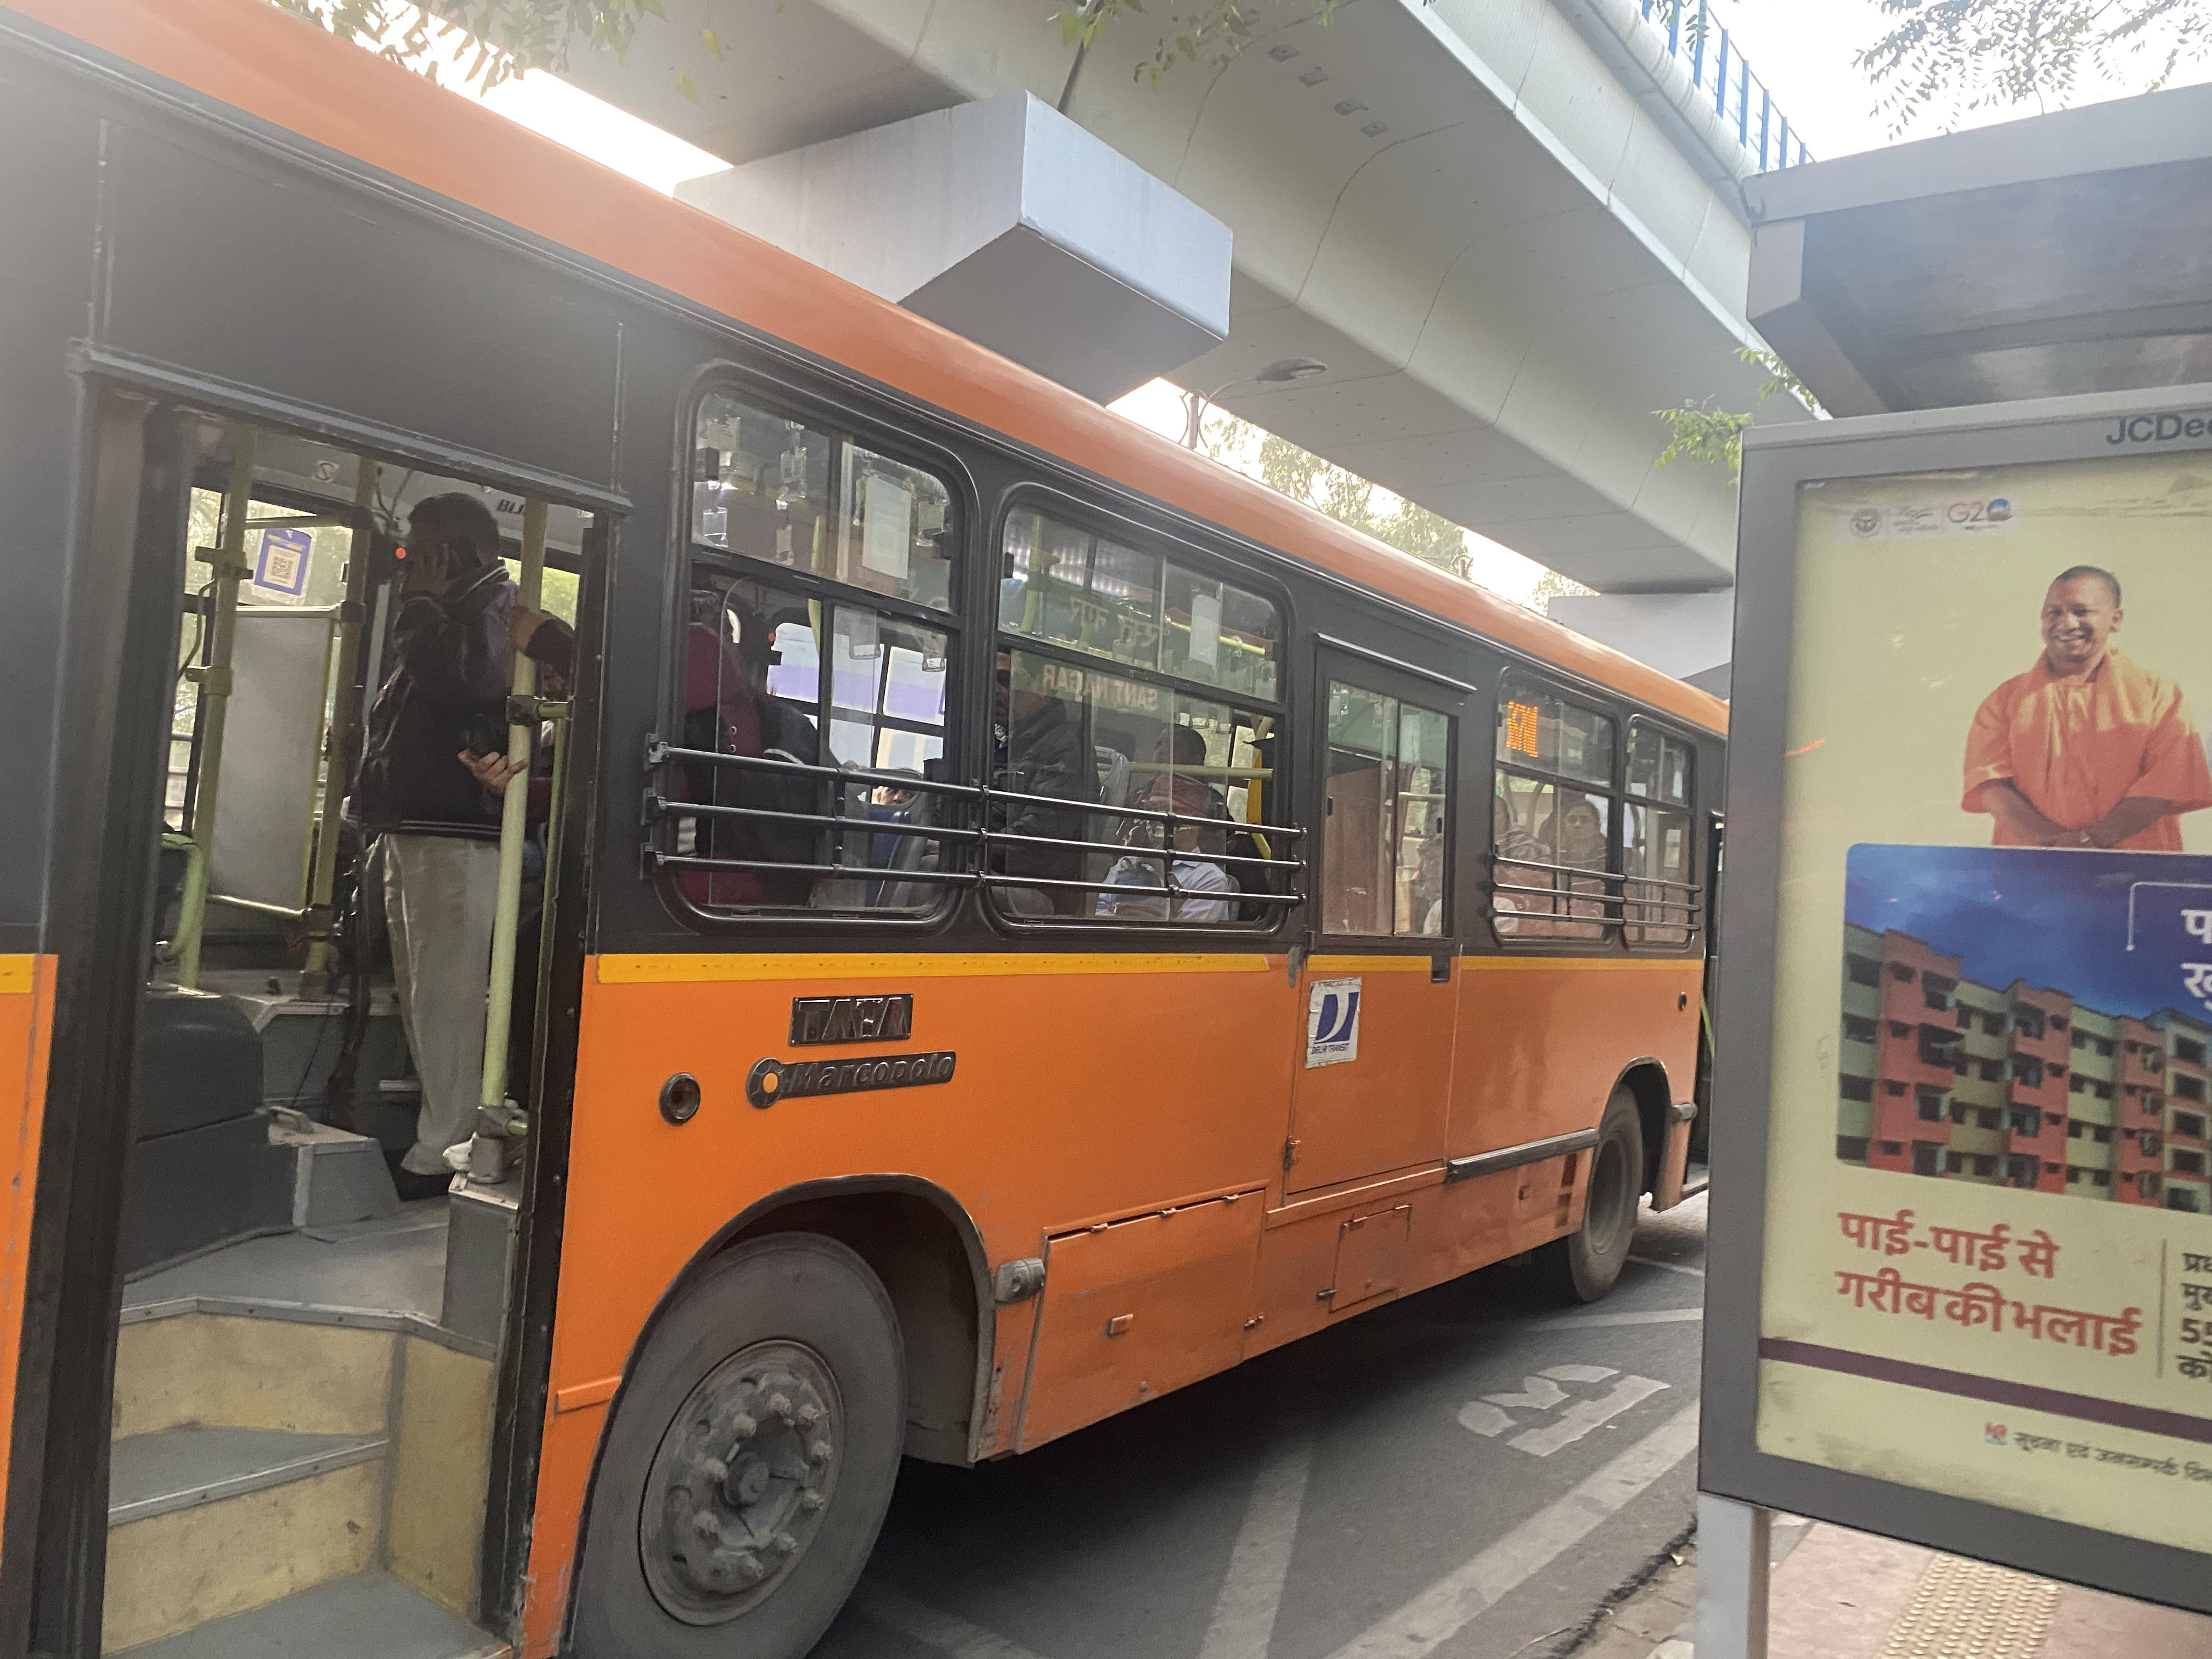Bus: (16, 0, 1789, 1645)
Display Board: (1465, 674, 1662, 807)
